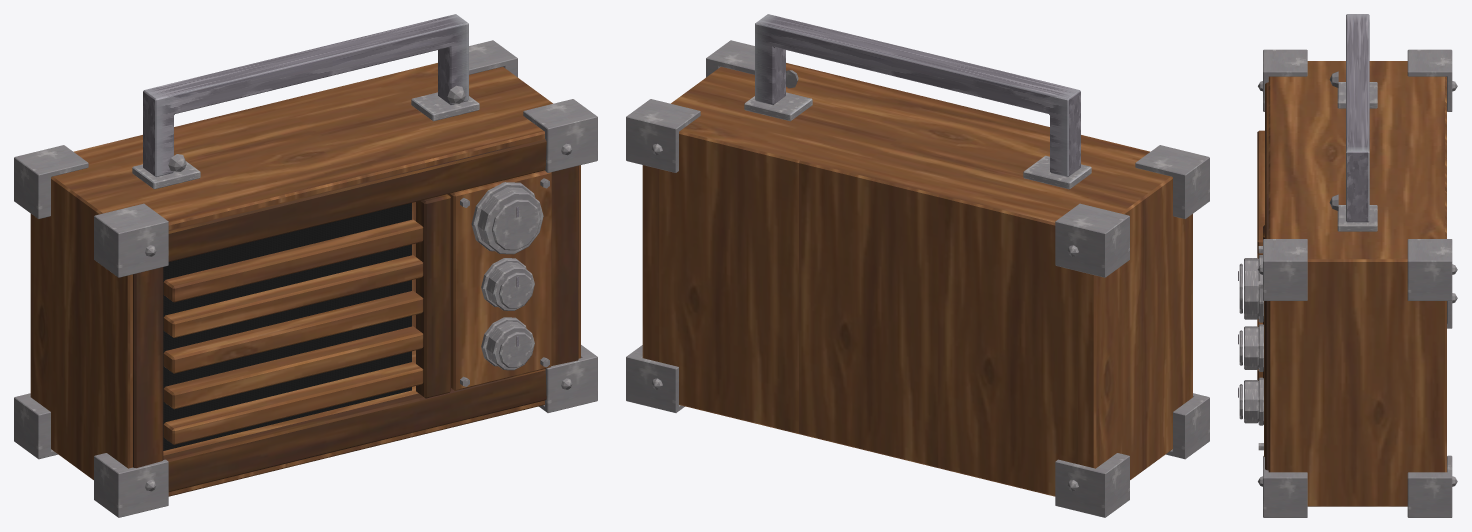
3 renders of one model, left to right at view 1: azimuth 30°, elevation 25°; view 2: azimuth 150°, elevation 25°; view 3: azimuth 270°, elevation 25°, orthographic. The views are drawn at different scales.
Visible parts, largest first — view 1: source; view 2: source; view 3: source.
Part boxes in pixels (x1=…): source: x1=14, y1=14, x2=597, y2=517; source: x1=626, y1=14, x2=1209, y2=517; source: x1=1238, y1=14, x2=1457, y2=517.
Size of the model in its own units: 0.55 by 0.4 by 0.2415.
Materials: 3 (3 with a texture image).
